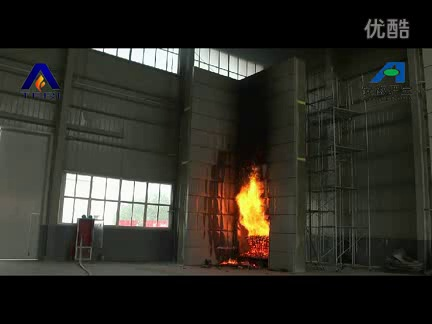fire: (237, 168, 271, 237)
